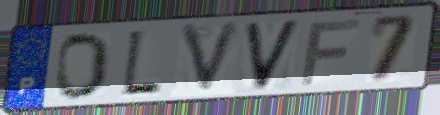7: (367, 12, 421, 86)
F: (298, 17, 364, 88)
L: (119, 28, 165, 101)
O: (53, 30, 113, 102)
V: (177, 19, 247, 99), (241, 17, 305, 93)
